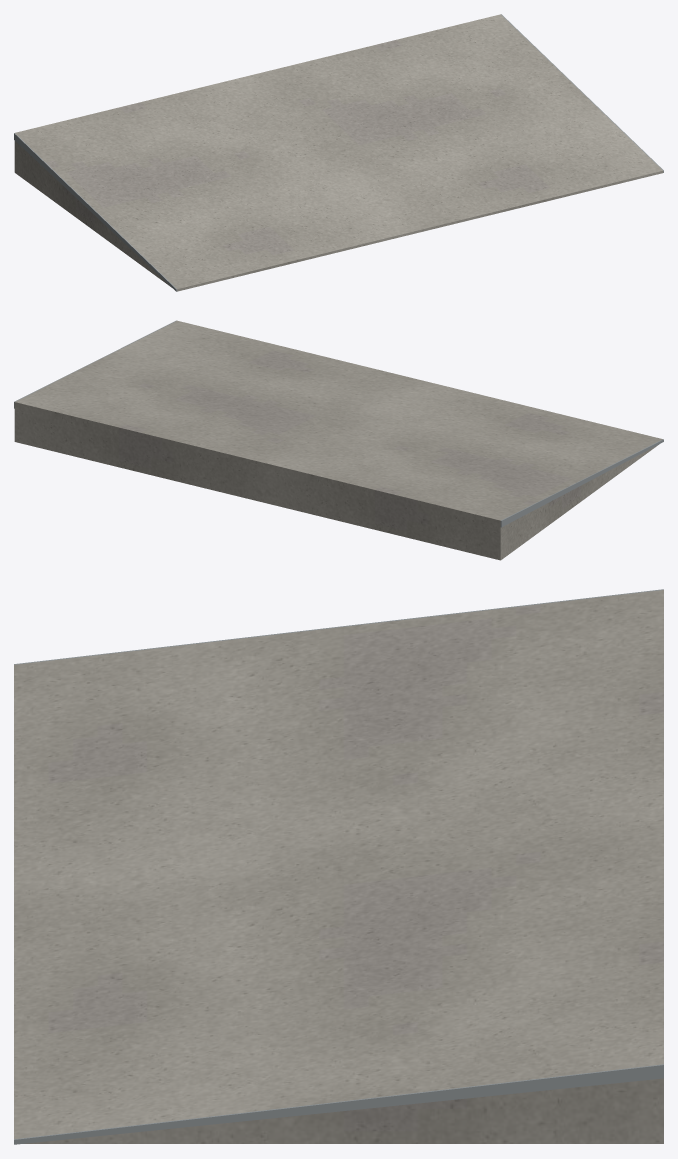
File: gate_ramp.glb
3 views of the same model, one above another, from view 1: azimuth 30°, elevation 25°; view 2: azimuth 150°, elevation 25°; view 3: azimuth 270°, elevation 25° (orthographic). The views are drawn at different scales.
Visible parts, largest first — view 1: gate_ramp_concrete, gate_ramp_steel; view 2: gate_ramp_concrete, gate_ramp_steel; view 3: gate_ramp_concrete, gate_ramp_steel.
Part boxes in pixels (box(x1,y1,x2,y2)): gate_ramp_concrete: box(14, 14, 663, 291); gate_ramp_steel: box(14, 14, 663, 291); gate_ramp_concrete: box(14, 320, 662, 560); gate_ramp_steel: box(14, 320, 663, 527); gate_ramp_concrete: box(14, 590, 663, 1143); gate_ramp_steel: box(14, 589, 663, 1144).
Size of the model in its own units: 3.81 by 0.298 by 2.2.
Materials: 2 (1 with a texture image).
